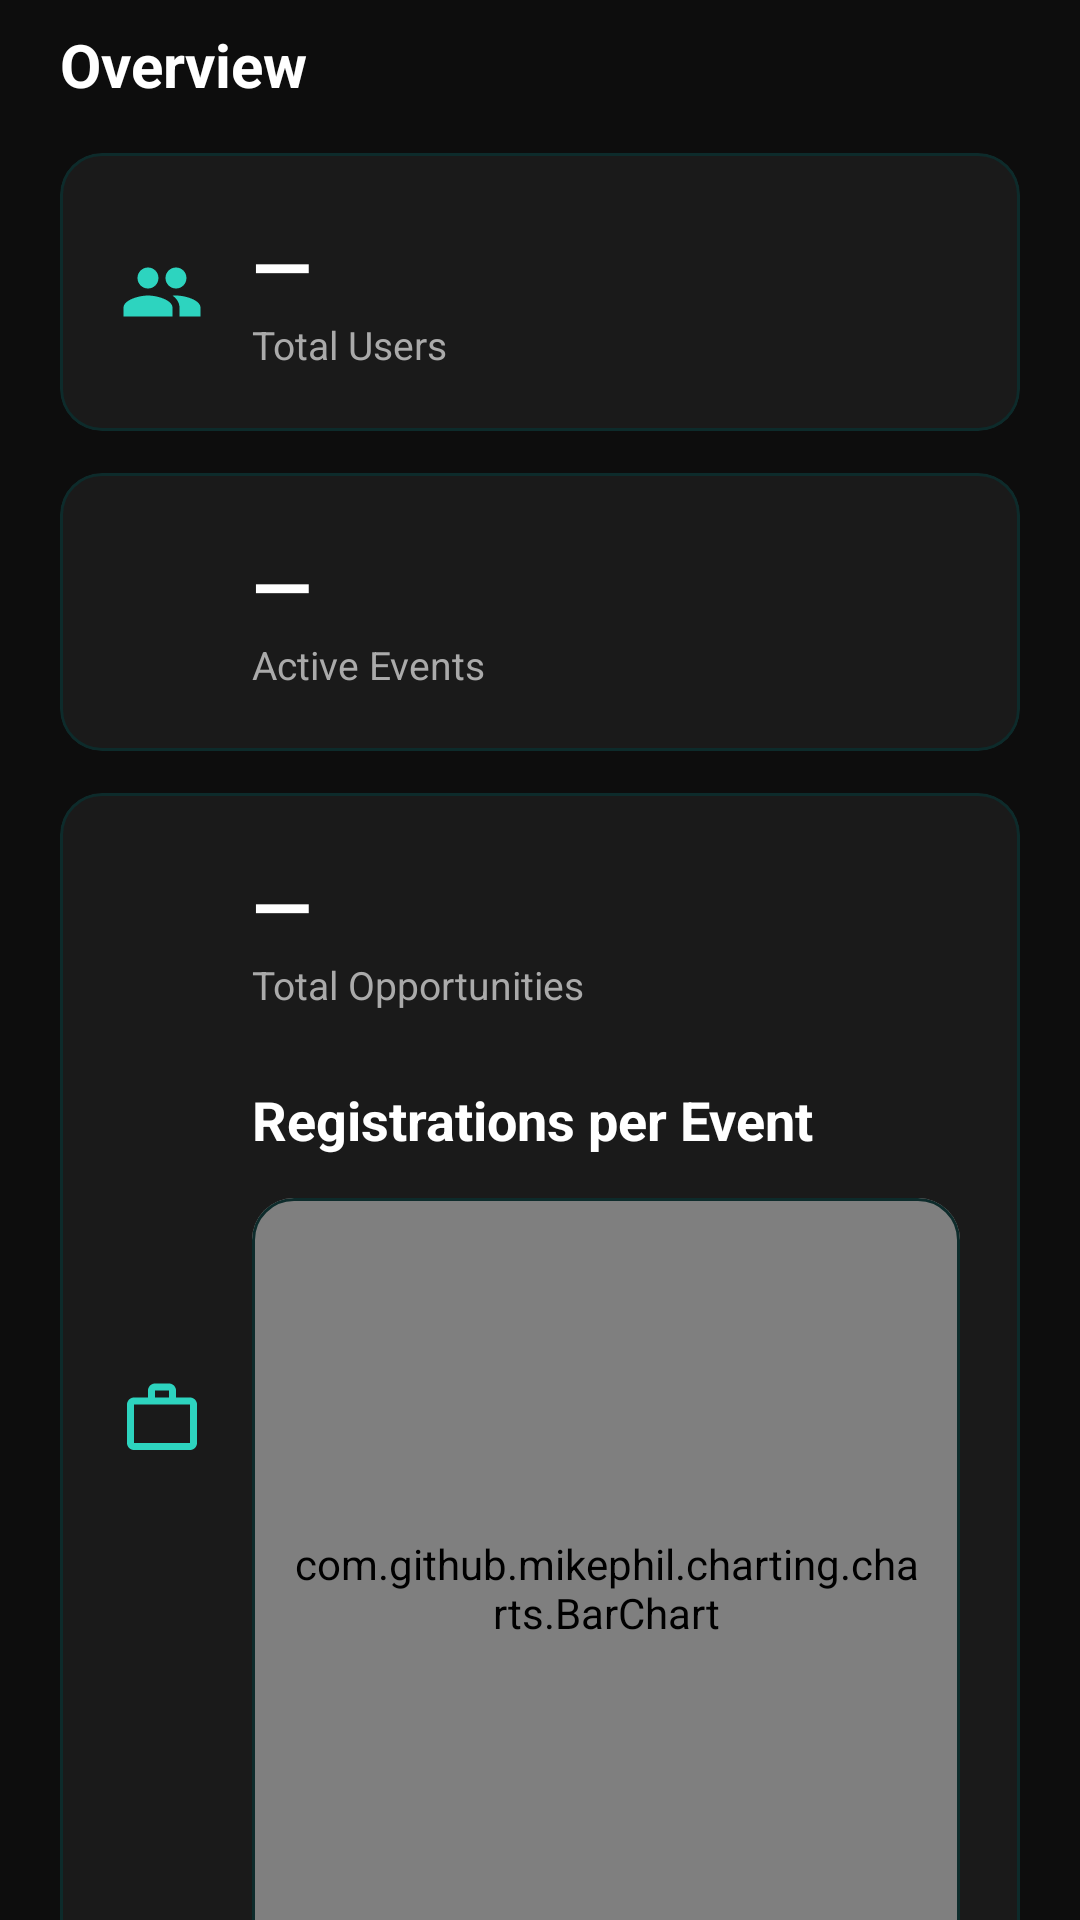

Icon bounding boxes for this 1080×1920 phone screenshot, format (x1, y1, x2, y2):
Opportunities: (127, 1383, 197, 1450)
